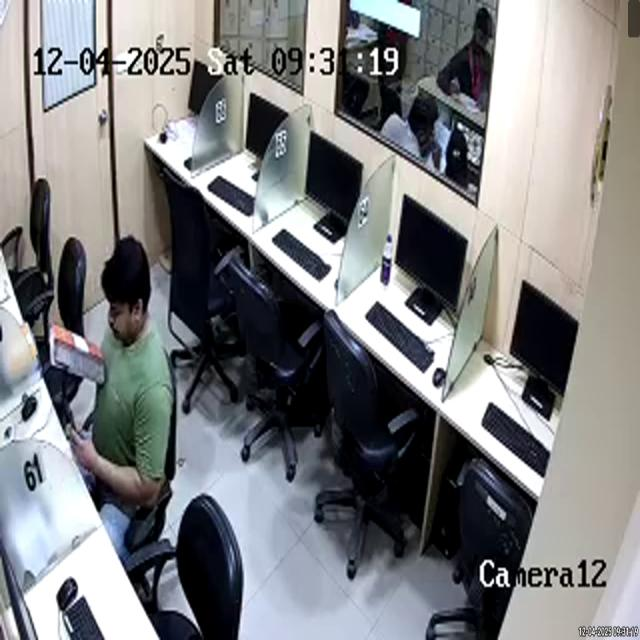phone: (66, 406, 88, 438)
